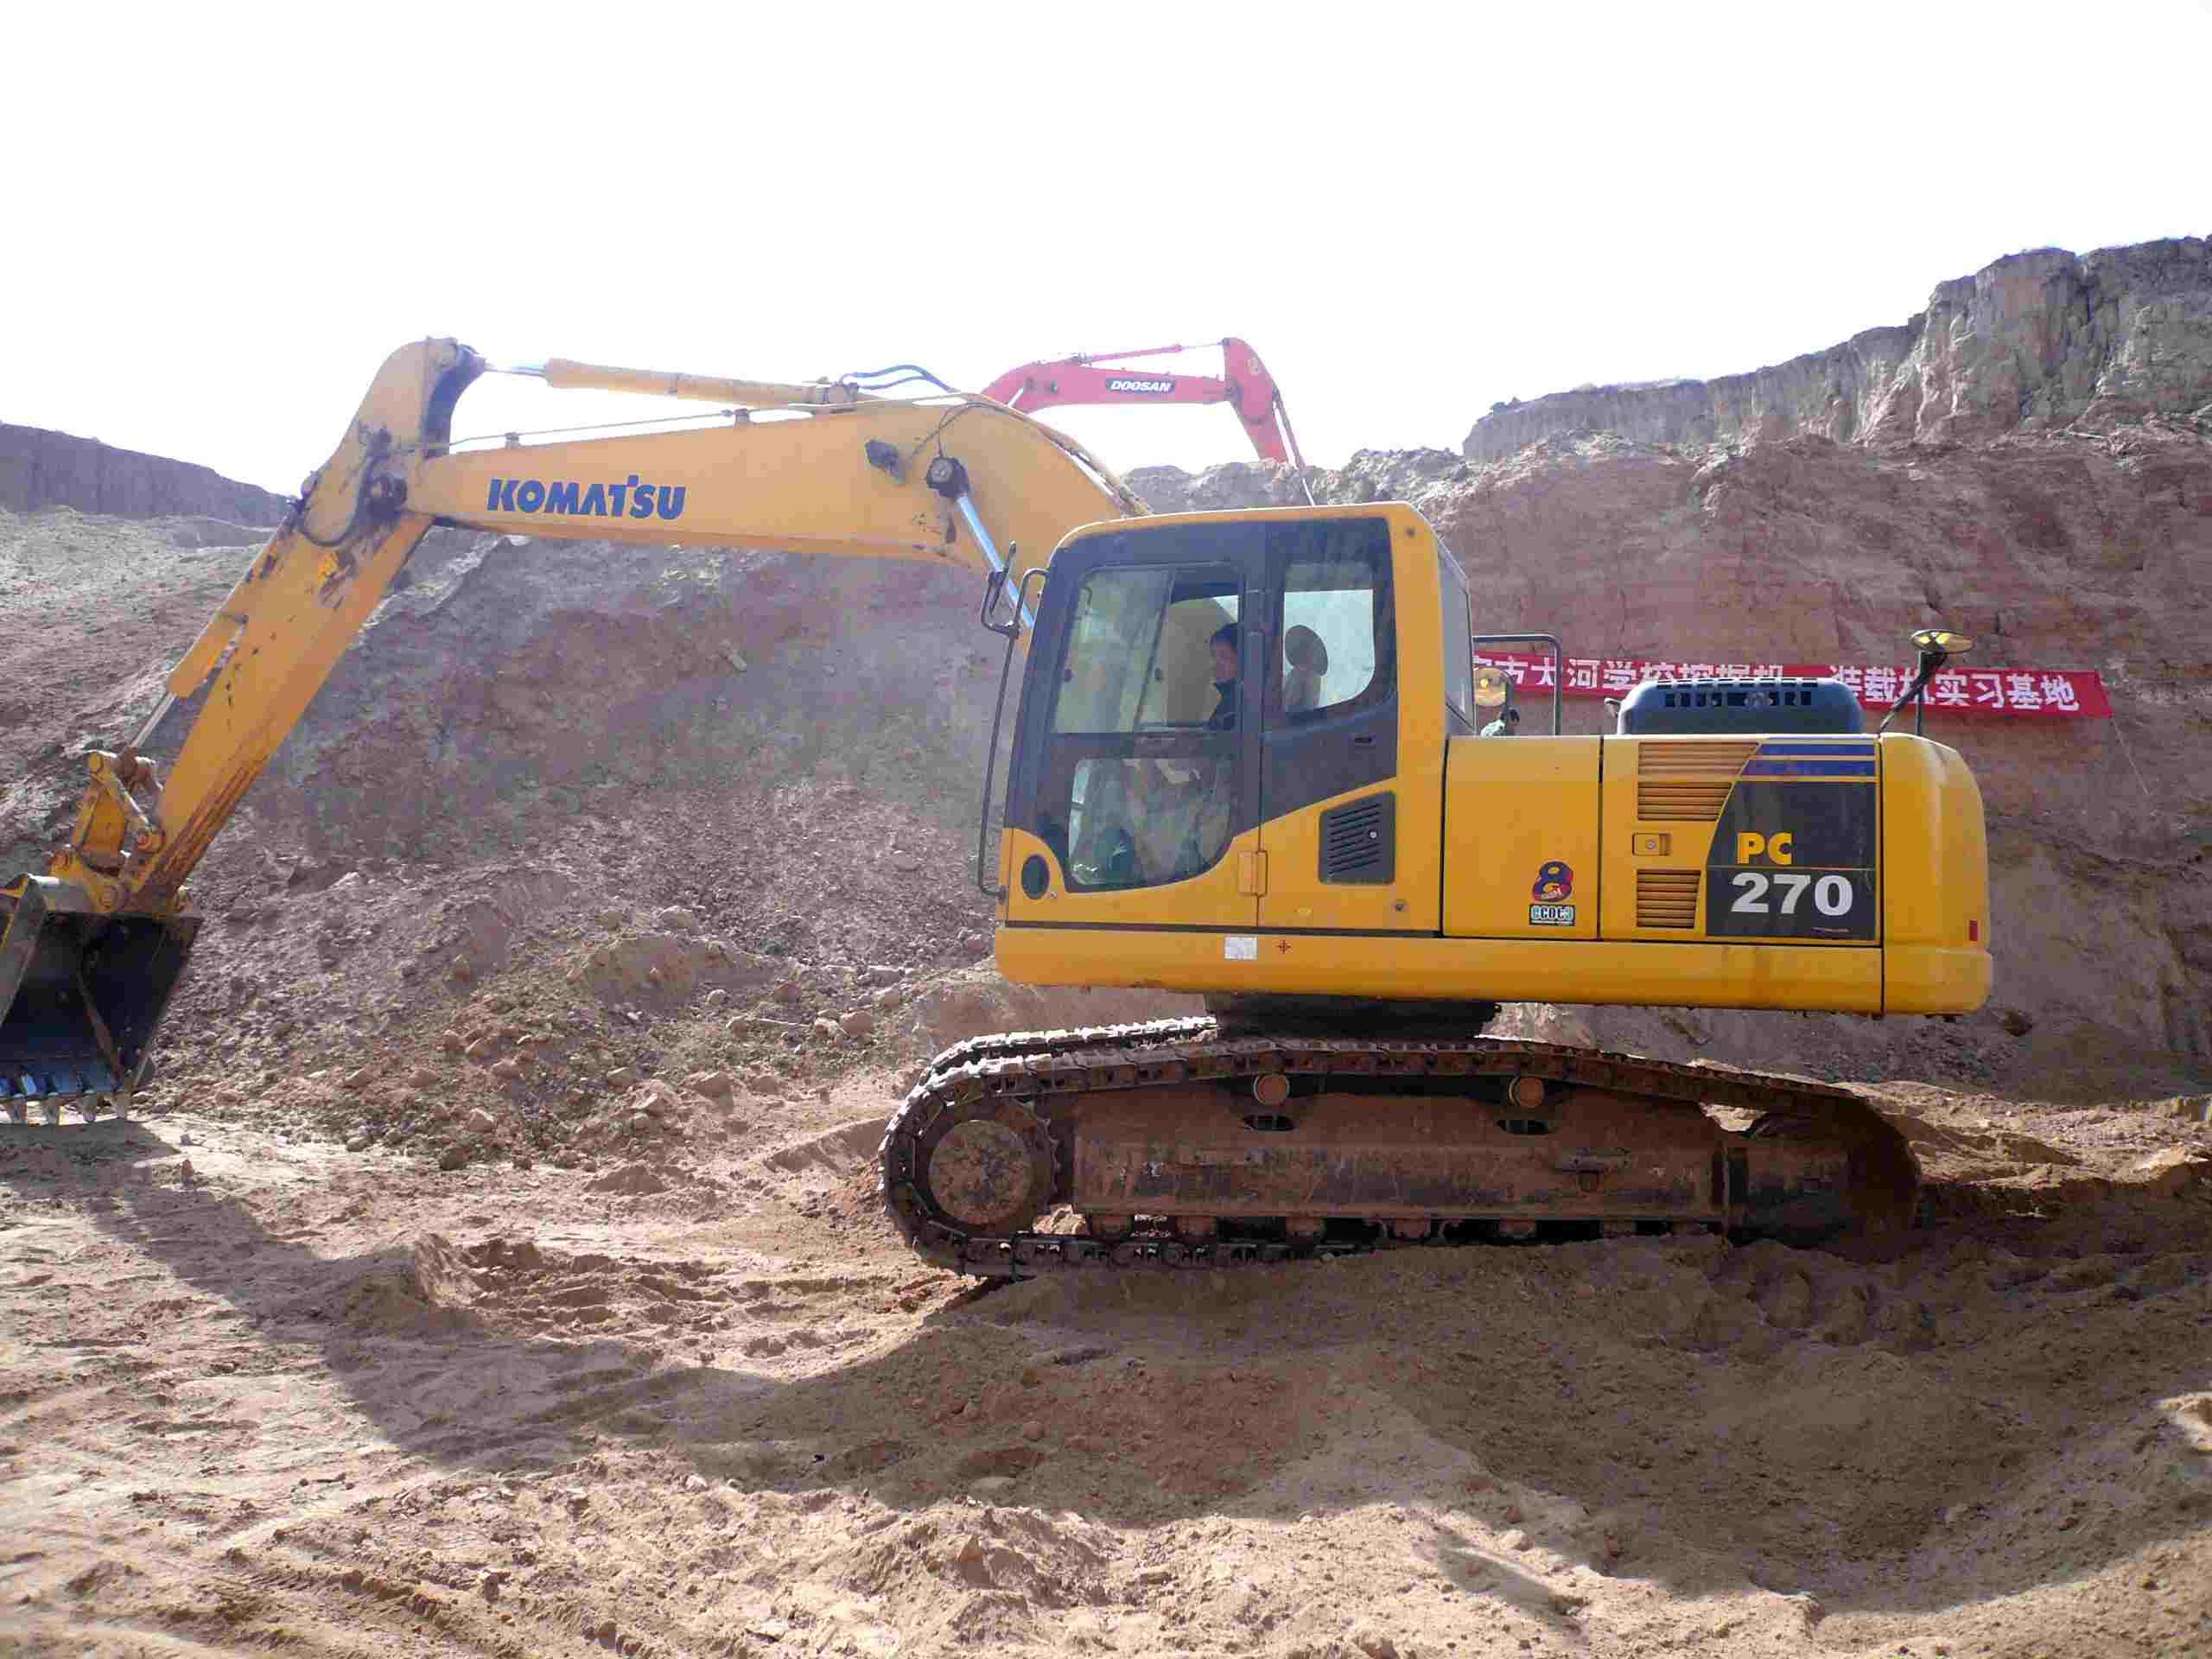excavator: (0, 340, 1993, 1208)
